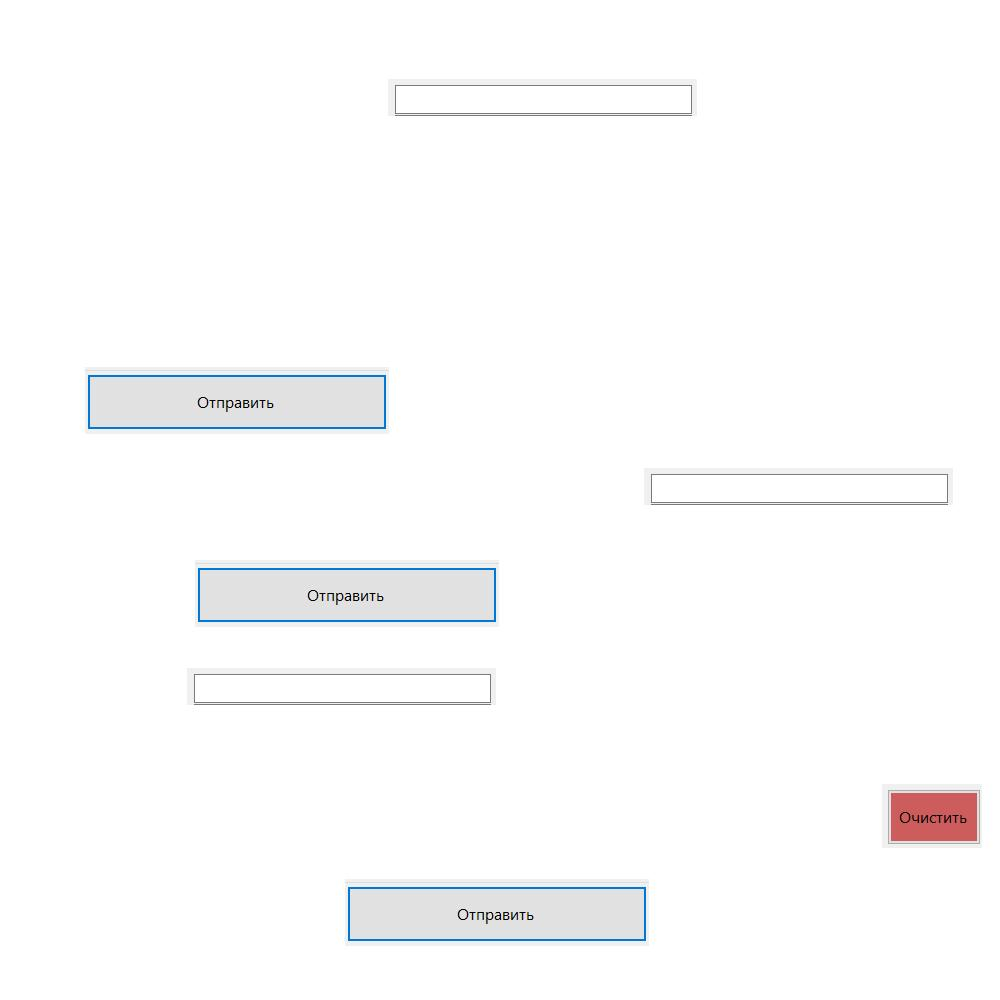Button: (195, 560, 499, 627), (345, 879, 649, 946), (85, 367, 389, 434), (882, 784, 982, 848)
EditText-: (644, 468, 953, 505), (187, 668, 496, 705), (388, 79, 697, 116)
